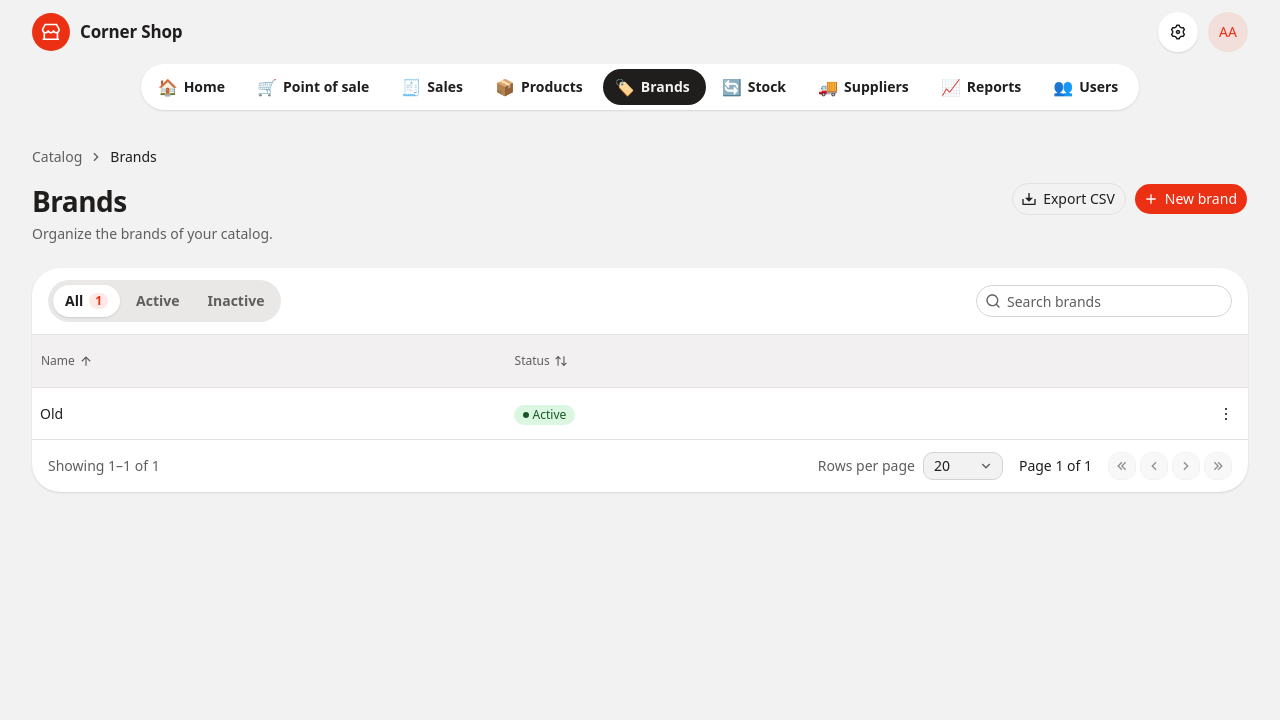
Test: BrandDialog › loads the brand from the server and sends its version
Expected: the button "Old" is shown, x1=40 y1=404 x2=63 y2=424
Click the button named "Actions".
click(1226, 414)  # box x1=1212 y1=400 x2=1240 y2=428
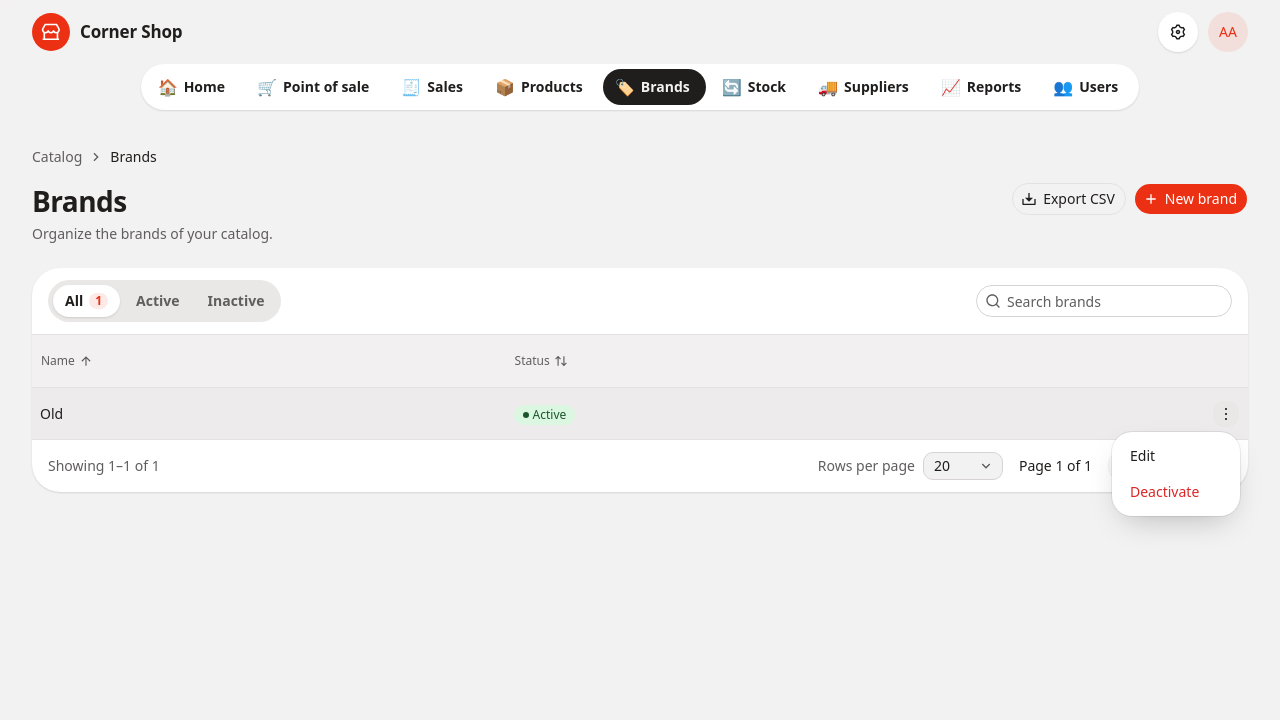
Click the menu item "Edit".
click(1143, 456)  # box x1=1130 y1=446 x2=1155 y2=465
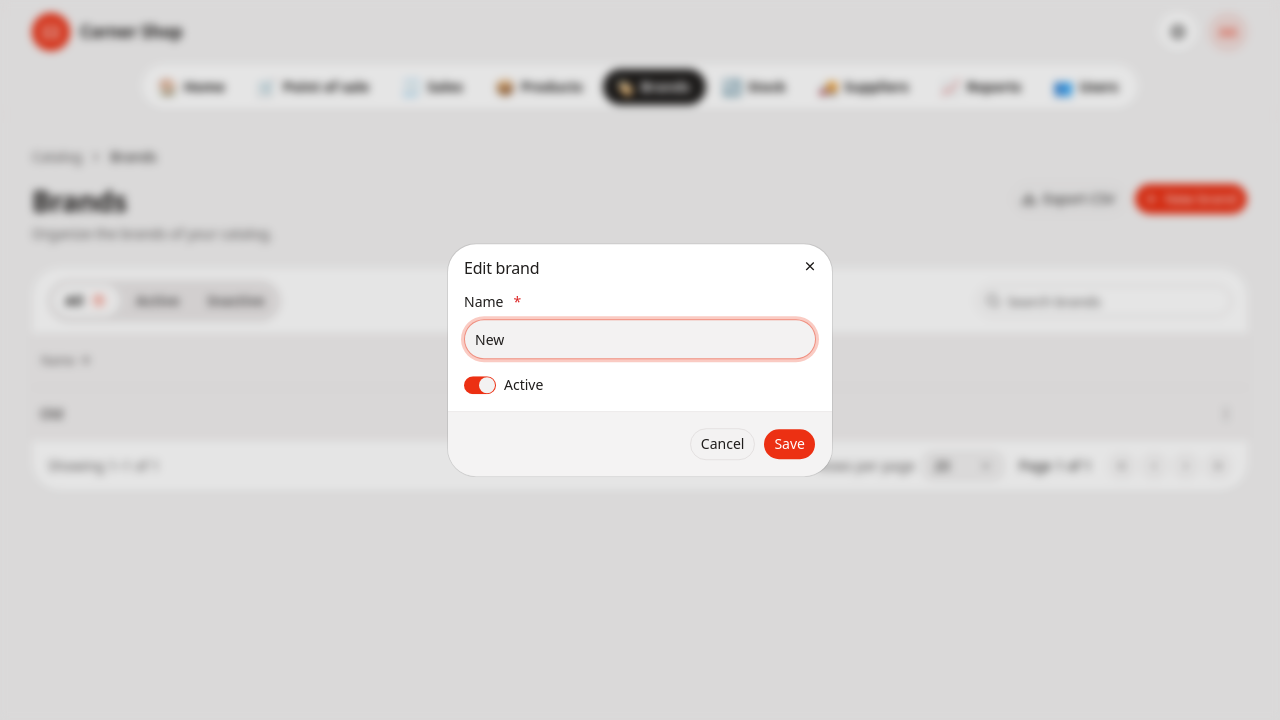
Expected: the field labelled "Name" holds "New", x1=464 y1=320 x2=816 y2=360
Click the button "Save".
click(790, 444)  # box x1=763 y1=428 x2=816 y2=460
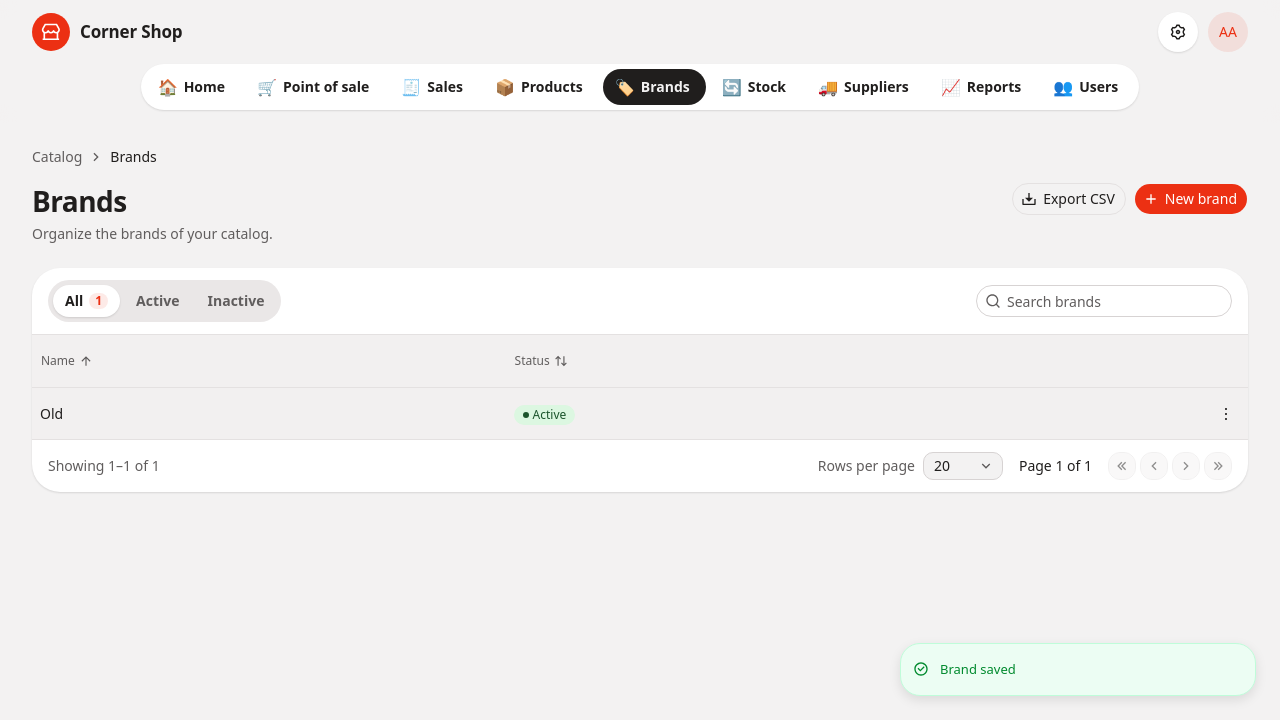
Expected: the dialog is gone
